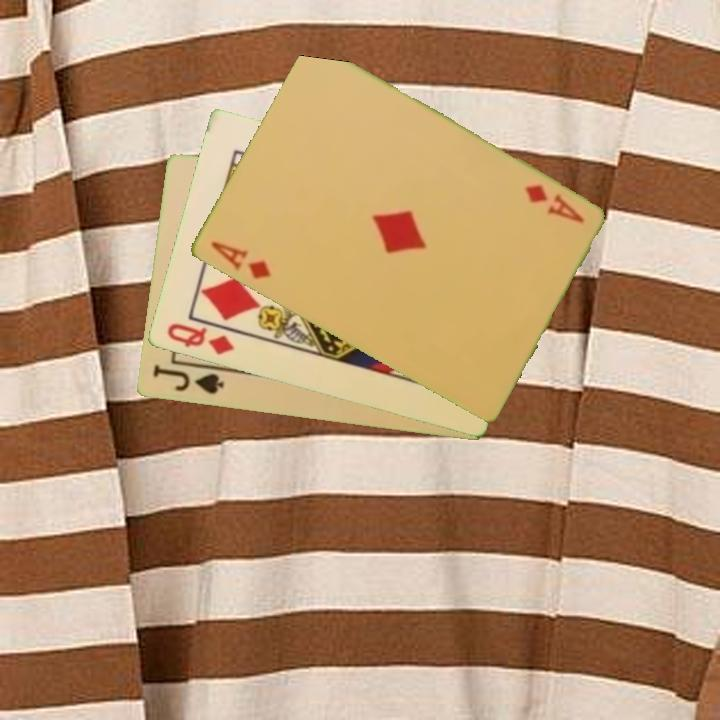Ad: (206, 237, 273, 283), (521, 181, 587, 226)
Js: (149, 361, 227, 398)
Qd: (163, 319, 238, 358)
